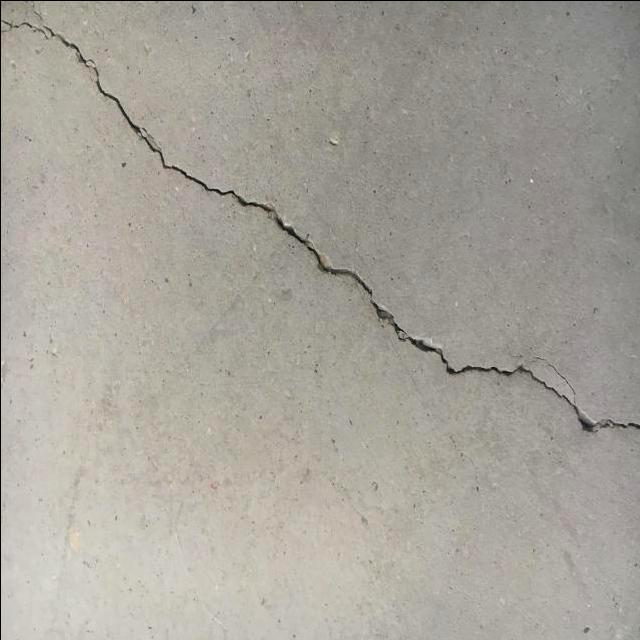SurfaceCrack: (1, 1, 640, 536)
